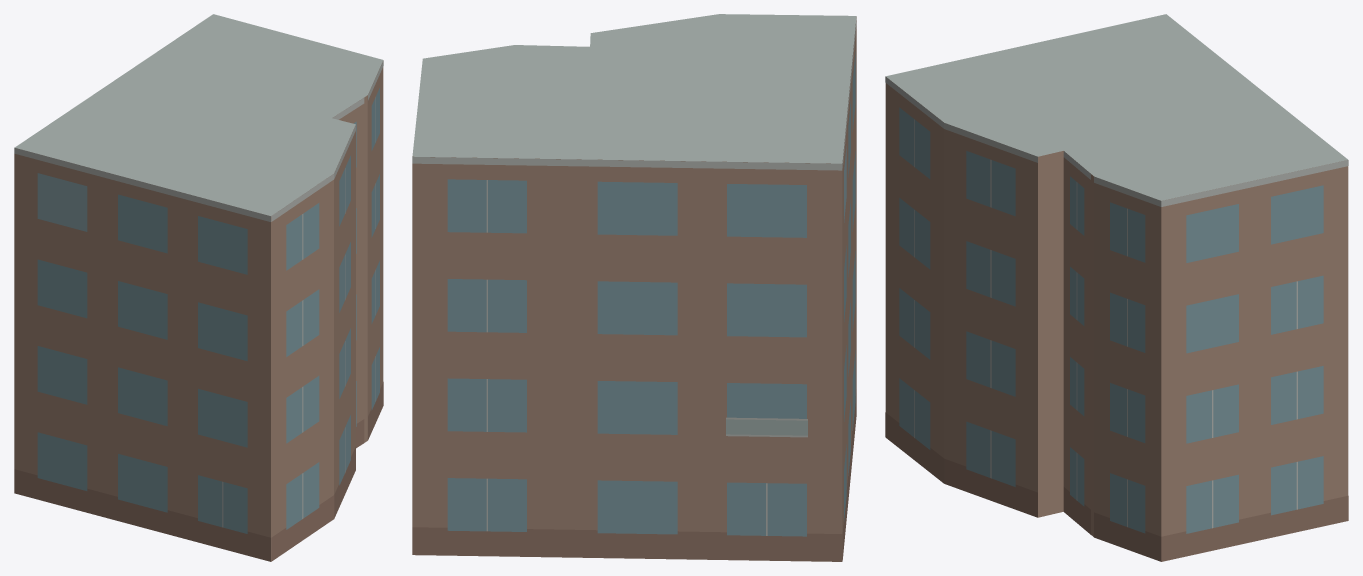
The model's file is survey-upis-33046232.glb.
3 renders of one model, left to right at view 1: azimuth 30°, elevation 25°; view 2: azimuth 150°, elevation 25°; view 3: azimuth 270°, elevation 25°, orthographic. The views are drawn at different scales.
Parts seen in each view (by area): view 1: survey-upis-33046232.tmp; view 2: survey-upis-33046232.tmp; view 3: survey-upis-33046232.tmp.
Part boxes in pixels (x1,y1,x2,y2): survey-upis-33046232.tmp: (14,14,383,561); survey-upis-33046232.tmp: (412,14,856,561); survey-upis-33046232.tmp: (885,14,1348,561).
Size of the model in its own units: 15.61 by 14.05 by 16.34.
